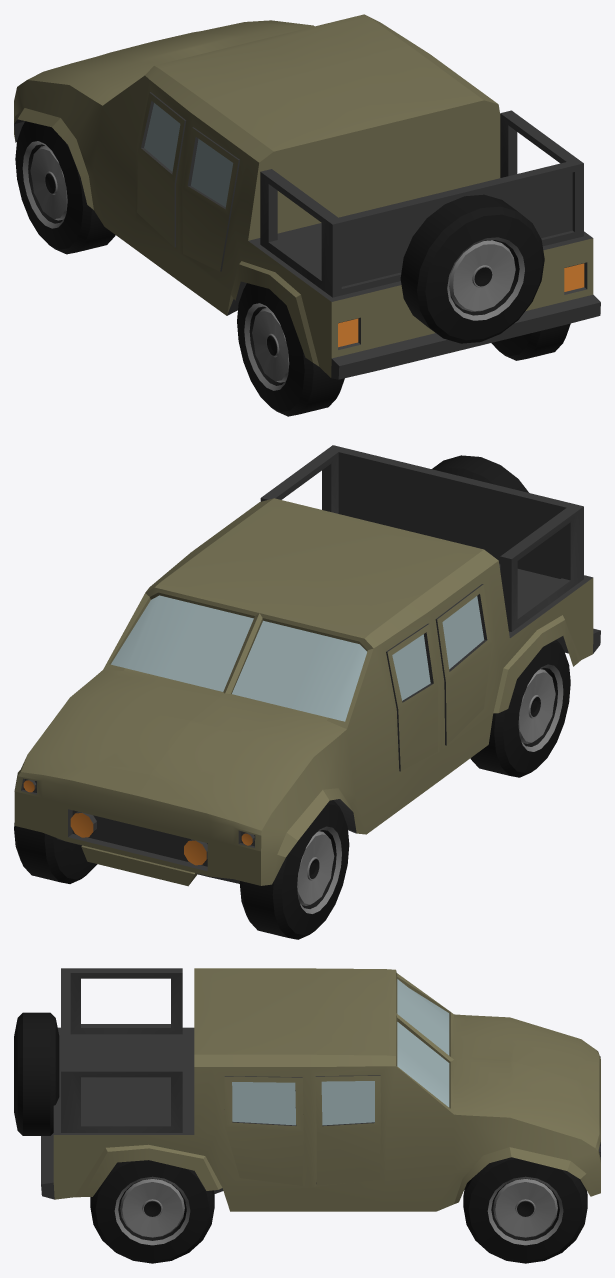
File: Vehicle_04.fbx
3 renders of one model, top to bottom at view 1: azimuth 30°, elevation 25°; view 2: azimuth 150°, elevation 25°; view 3: azimuth 270°, elevation 25°, orthographic. The views are drawn at different scales.
Parts seen in each view (by area): view 1: Cylinder.020; view 2: Cylinder.020; view 3: Cylinder.020.
Boxes of the visible parts, x1,y1,x2,y2 form: Cylinder.020: [14, 14, 600, 416]; Cylinder.020: [14, 445, 600, 939]; Cylinder.020: [14, 968, 600, 1263].
Bounding box in the file's own units: 812 × 306 × 377.
